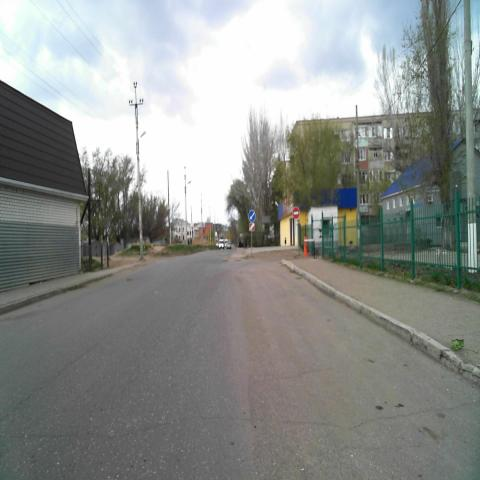3_1: (292, 206, 300, 219)
4_2_2: (248, 209, 256, 222)
